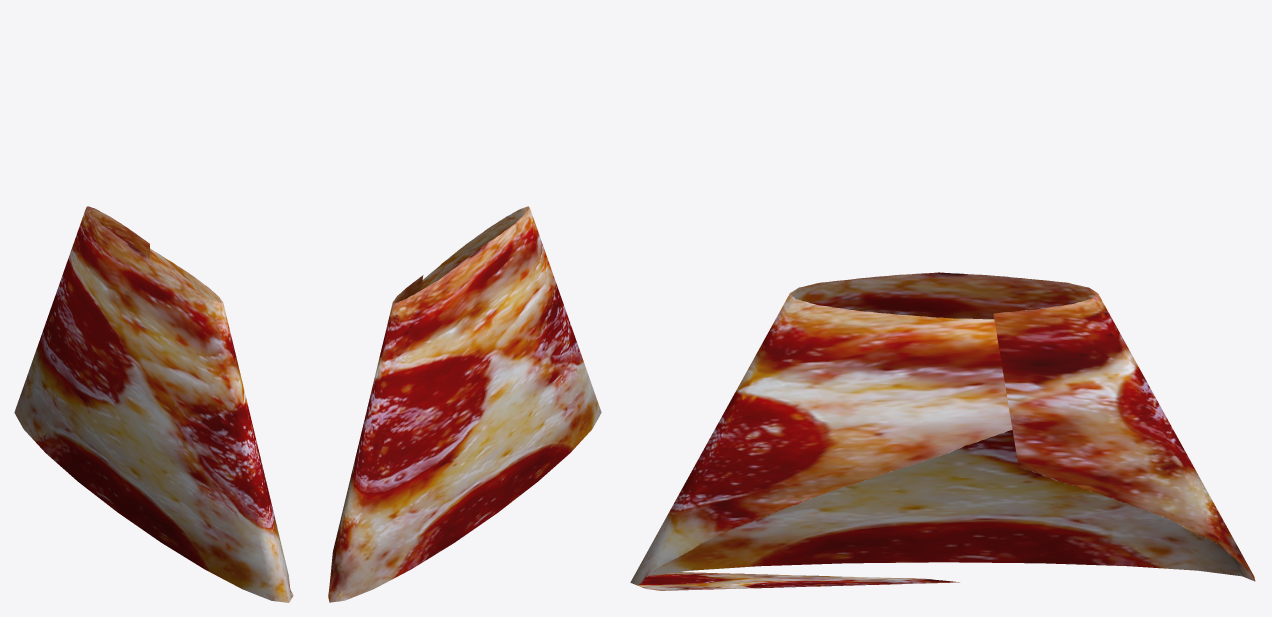
The model's file is pizza.fbx.
3 views of the same model, side by side, from view 1: azimuth 30°, elevation 25°; view 2: azimuth 150°, elevation 25°; view 3: azimuth 270°, elevation 25° (orthographic). The views are drawn at different scales.
Visible parts, largest first — view 1: pCone1; view 2: pCone1; view 3: pCone1.
Boxes of the visible parts, x1,y1,x2,y2 form: pCone1: [14, 206, 293, 602]; pCone1: [328, 206, 601, 602]; pCone1: [630, 272, 1255, 590].
Bounding box in the file's own units: 0.3067 × 2 × 2.
1 material, 1 textured.
